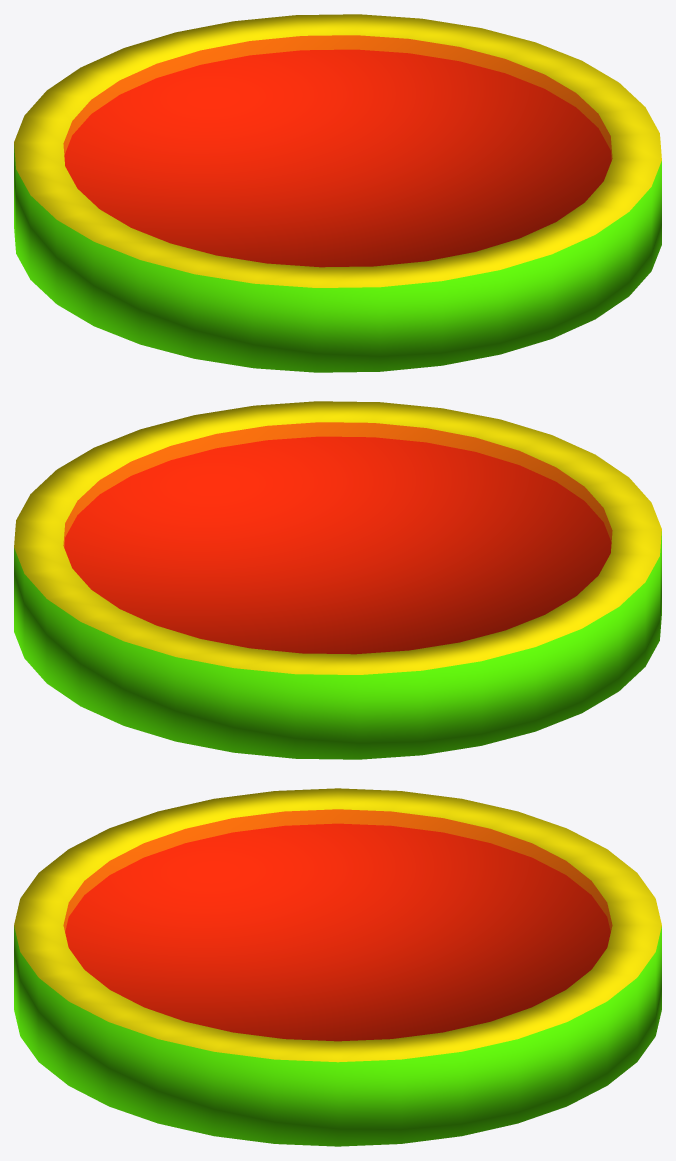
The model's file is platform_circle1.glb.
3 views of the same model, one above another, from view 1: azimuth 30°, elevation 25°; view 2: azimuth 150°, elevation 25°; view 3: azimuth 270°, elevation 25° (orthographic).
Visible parts, largest first — view 1: platform_circle1; view 2: platform_circle1; view 3: platform_circle1.
Boxes of the visible parts, x1,y1,x2,y2 form: platform_circle1: (14, 14, 661, 372); platform_circle1: (14, 401, 661, 759); platform_circle1: (14, 788, 661, 1146).
Bounding box in the file's own units: 4.15 × 0.5969 × 4.15.
Materials: 1 (1 with a texture image).
